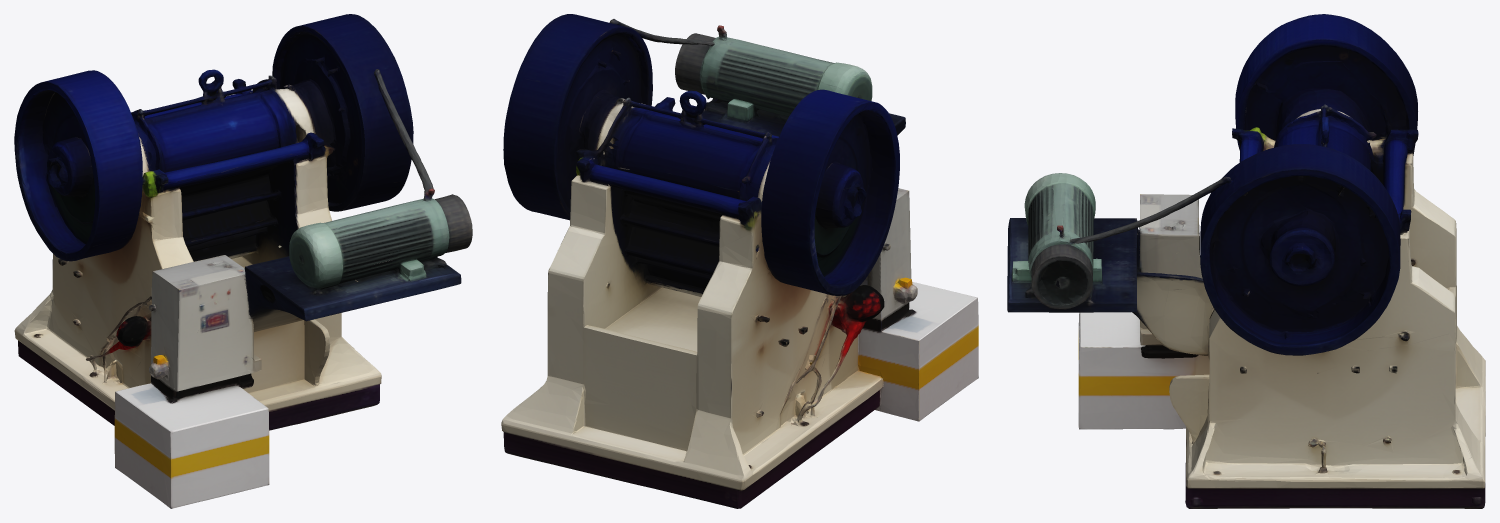
Rendered from single_toggle_greese_crusher.glb.
3 views of the same model, side by side, from view 1: azimuth 30°, elevation 25°; view 2: azimuth 150°, elevation 25°; view 3: azimuth 270°, elevation 25° (orthographic). The views are drawn at different scales.
Visible parts, largest first — view 1: world; view 2: world; view 3: world.
Part boxes in pixels (x1,y1,x2,y2): world: (14, 14, 472, 508); world: (501, 14, 978, 508); world: (1007, 14, 1485, 508).
Bounding box in the file's own units: 0.7859 × 0.8337 × 0.9884.
1 material, 1 textured.
